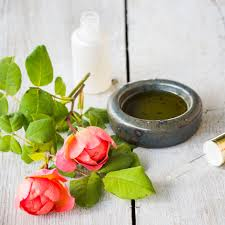rose: (51, 125, 119, 178), (20, 164, 76, 215)
